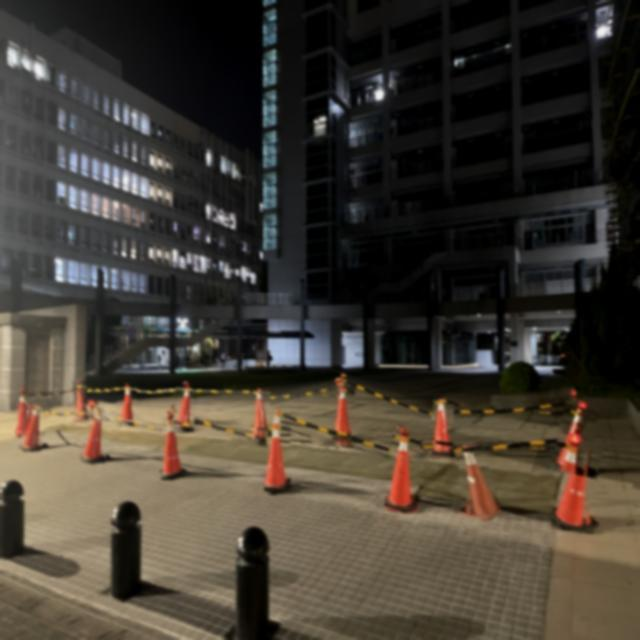traffic cone: (550, 404, 599, 534), (551, 444, 599, 533), (383, 428, 420, 514), (460, 452, 502, 521), (263, 412, 293, 494), (160, 411, 188, 481), (80, 402, 111, 464), (331, 375, 356, 446), (430, 398, 456, 457), (18, 406, 49, 453), (160, 430, 187, 481), (333, 382, 353, 441), (251, 389, 271, 445), (175, 380, 196, 432), (118, 383, 136, 427), (73, 383, 90, 422), (14, 394, 29, 438)
